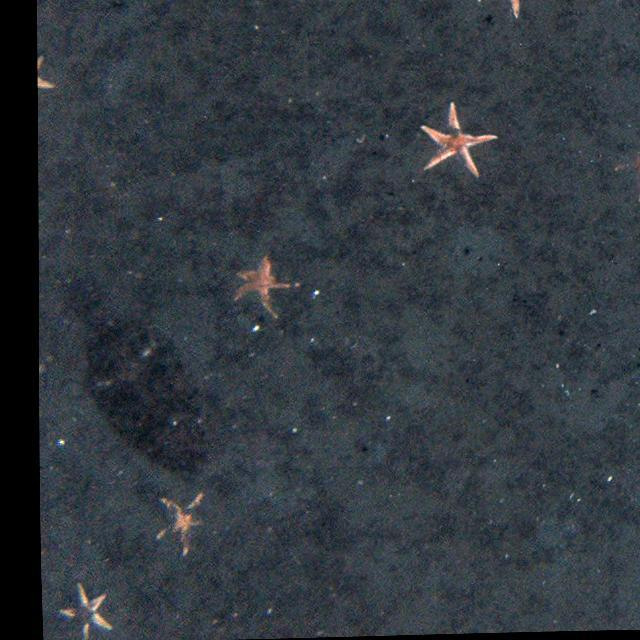flatfish: (69, 278, 220, 476)
